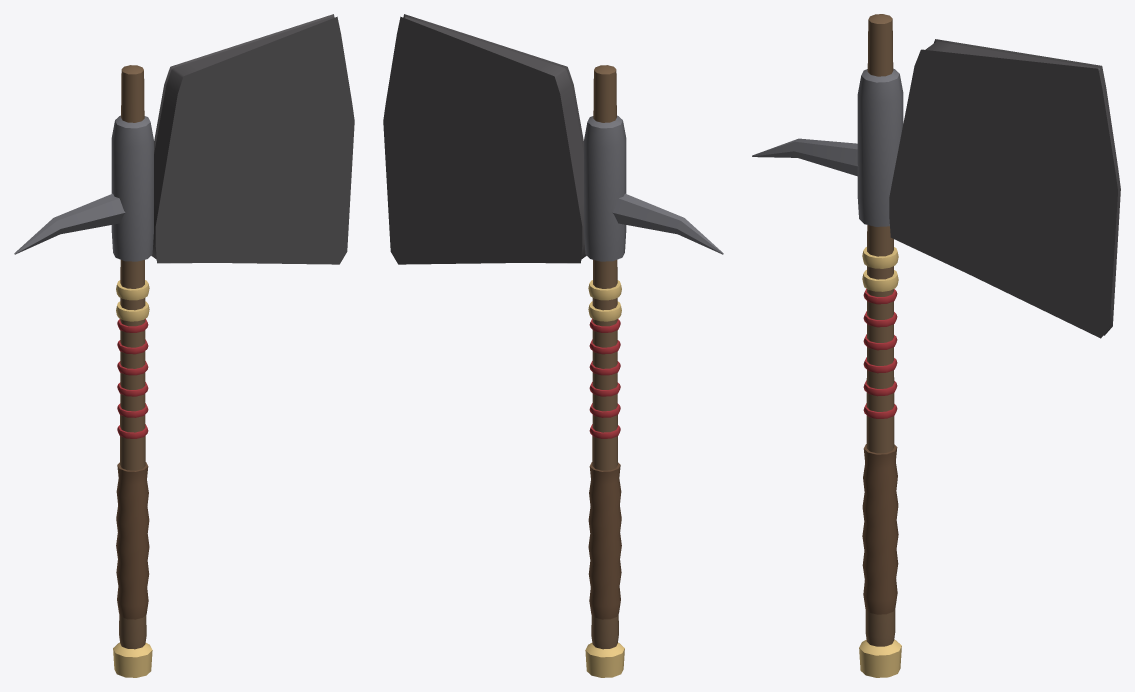
The model's file is warlord_cleaver.glb.
The picture shows the model from 3 angles, left to right: view 1: azimuth 30°, elevation 25°; view 2: azimuth 150°, elevation 25°; view 3: azimuth 330°, elevation 25°; orthographic projection. The views are drawn at different scales.
Visible parts, largest first — view 1: warlord_cleaver; view 2: warlord_cleaver; view 3: warlord_cleaver.
Part boxes in pixels (bbox=[...]): warlord_cleaver: bbox=[14, 14, 354, 677]; warlord_cleaver: bbox=[383, 14, 723, 677]; warlord_cleaver: bbox=[752, 14, 1120, 677].
Size of the model in its own units: 0.5022 by 0.8671 by 0.0517.
